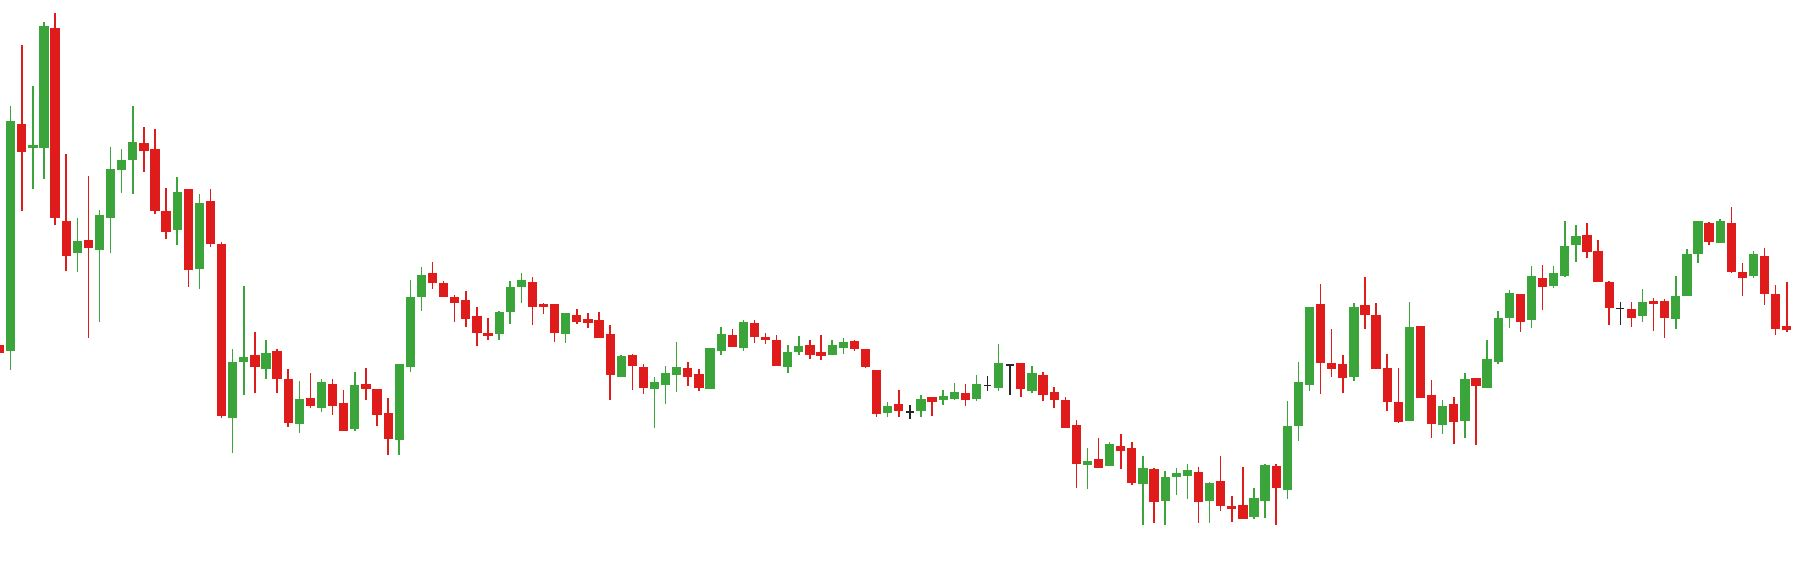buy: (337, 396, 406, 456), (1390, 380, 1448, 442)
sell: (1569, 218, 1715, 289)
